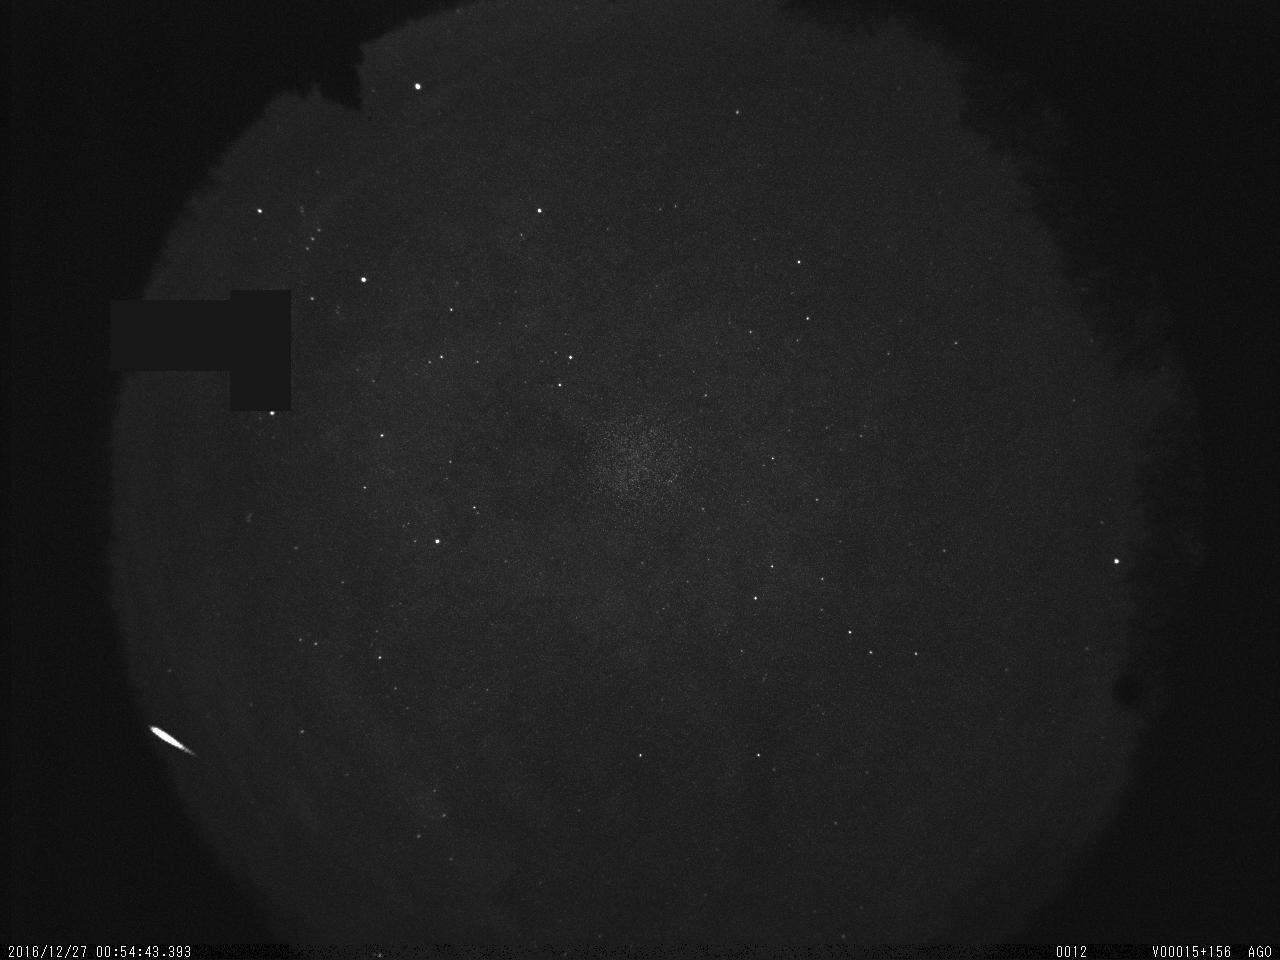meteor: (141, 716, 212, 770)
